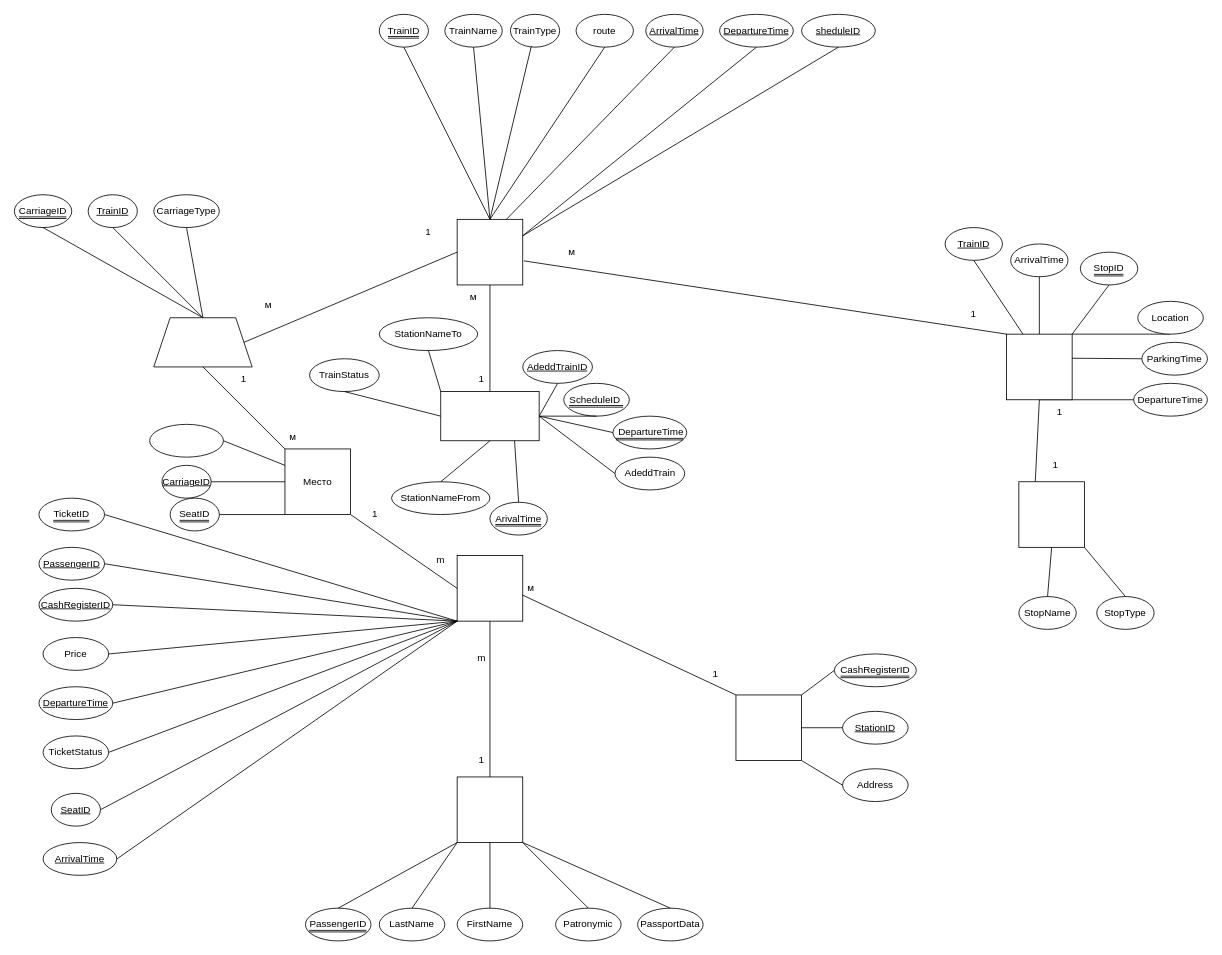
This 1222x955 diagram has some shape labels left out. Here are the shapes that lost their labels. From the top down, the box of each, then its label:
(456, 219, 523, 285): Поезд
(153, 317, 252, 367): Вагон
(1006, 333, 1072, 400): пункт остановки
(440, 391, 539, 441): Расписание
(149, 424, 223, 457): lockedStatus
(1018, 481, 1084, 547): Остановка
(456, 555, 523, 621): Билет
(735, 694, 802, 761): Касса
(456, 776, 523, 843): Пассажир
